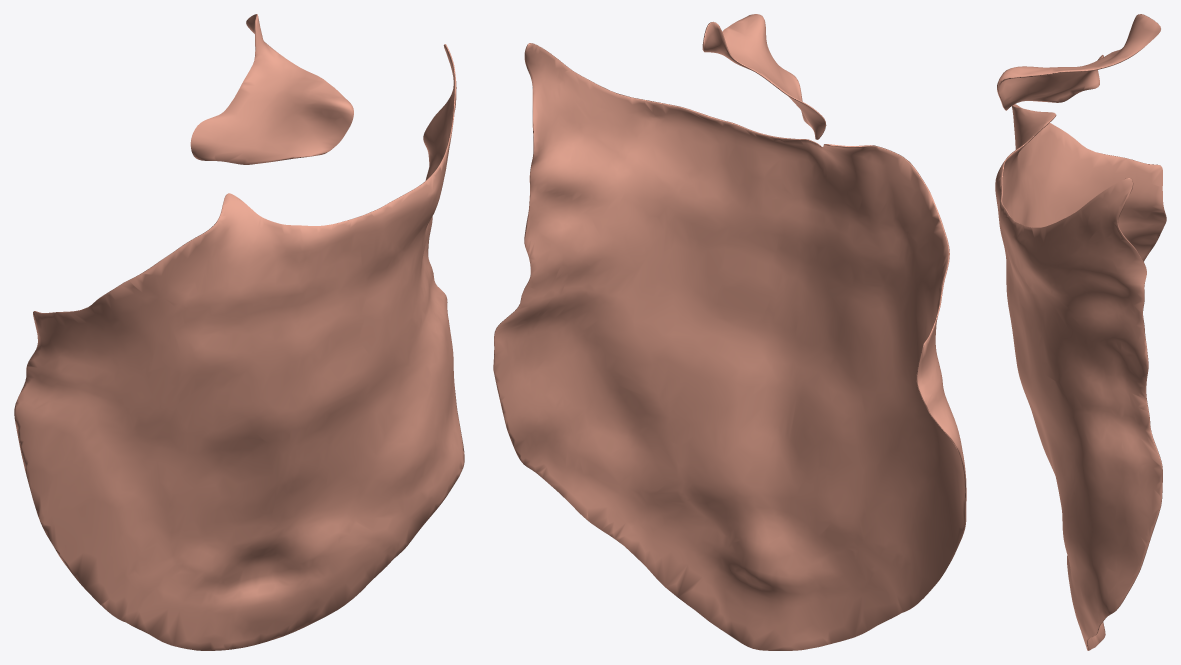
Rendered from digestive.abdomen.glb.
3 views of the same model, side by side, from view 1: azimuth 30°, elevation 25°; view 2: azimuth 150°, elevation 25°; view 3: azimuth 270°, elevation 25° (orthographic). The views are drawn at different scales.
Visible parts, largest first — view 1: greater_omentum, lesser_omentum; view 2: greater_omentum, lesser_omentum; view 3: greater_omentum, lesser_omentum.
Part boxes in pixels (x1,y1,x2,y2): greater_omentum: [14, 44, 464, 650]; lesser_omentum: [190, 14, 353, 164]; greater_omentum: [493, 43, 966, 650]; lesser_omentum: [702, 14, 826, 139]; greater_omentum: [995, 104, 1166, 650]; lesser_omentum: [997, 14, 1160, 110].
Size of the model in its own units: 0.2261 by 0.2992 by 0.0736.
